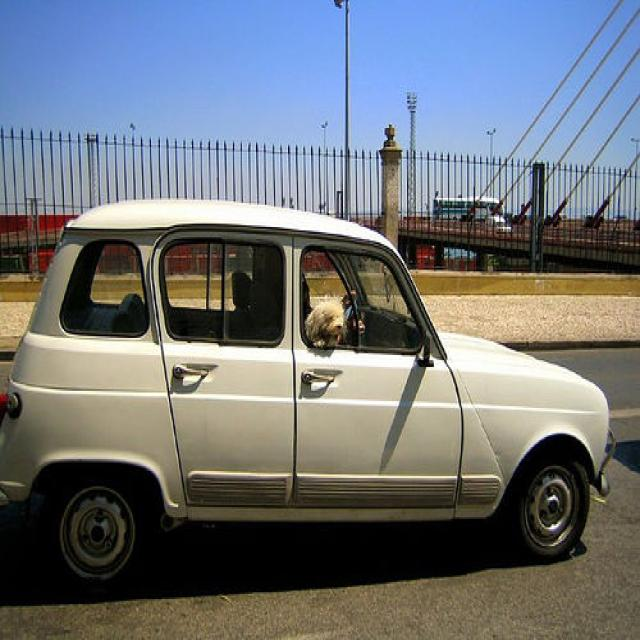Vehicle: (0, 202, 612, 585), (432, 196, 505, 220), (485, 216, 513, 233)
